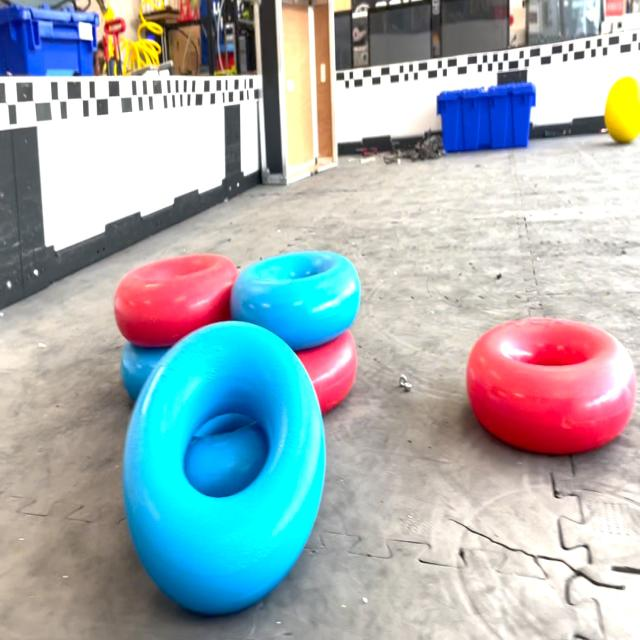Blue-Ring: (122, 322, 326, 613), (230, 251, 361, 351), (121, 342, 168, 400)
Red-Ring: (466, 318, 636, 453), (114, 253, 238, 347), (296, 329, 358, 412)
